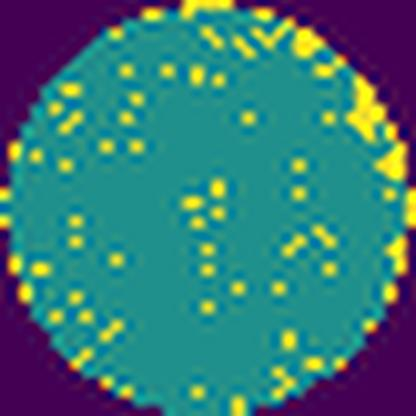Edge-Loc: (339, 73, 389, 144), (370, 142, 412, 192)
